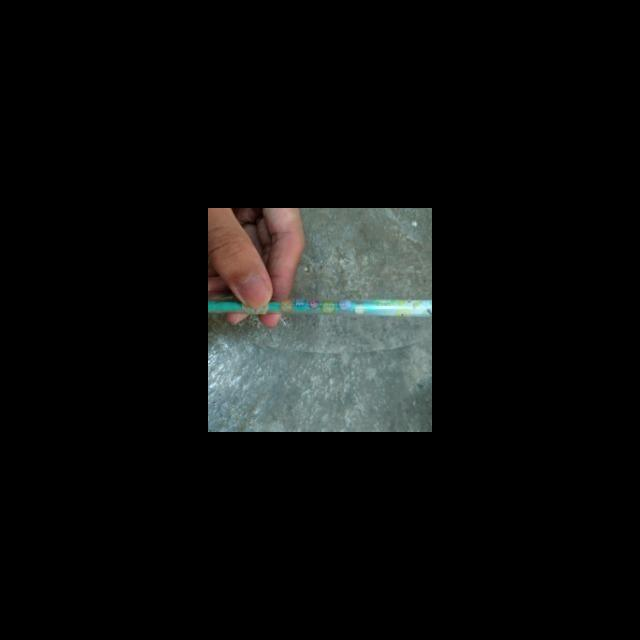plastic: (208, 296, 432, 323)
